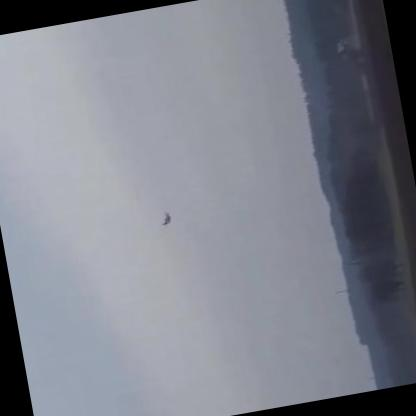plane: (158, 209, 172, 225)
